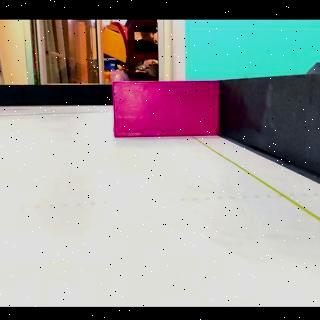xparking: (115, 81, 216, 138)
